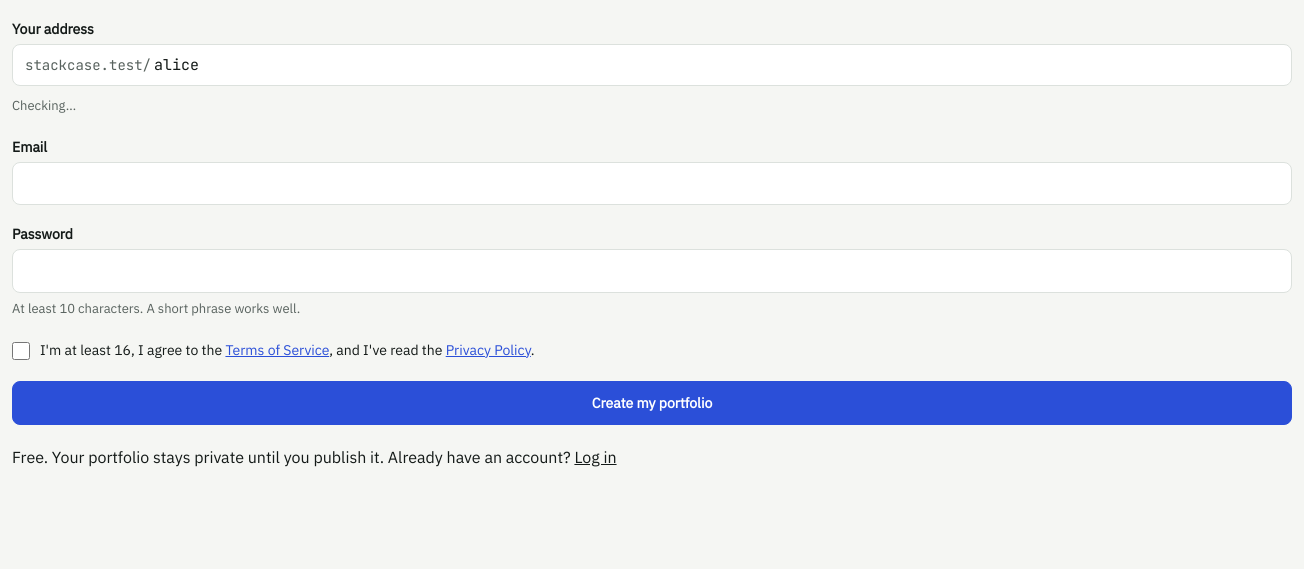
Test: auth forms › sign-up links the consent error to the checkbox and keeps it ticked
This screenshot has width=1304, height=569.
Click the button "Create my portfolio": (652, 403) [12,381,1292,425]
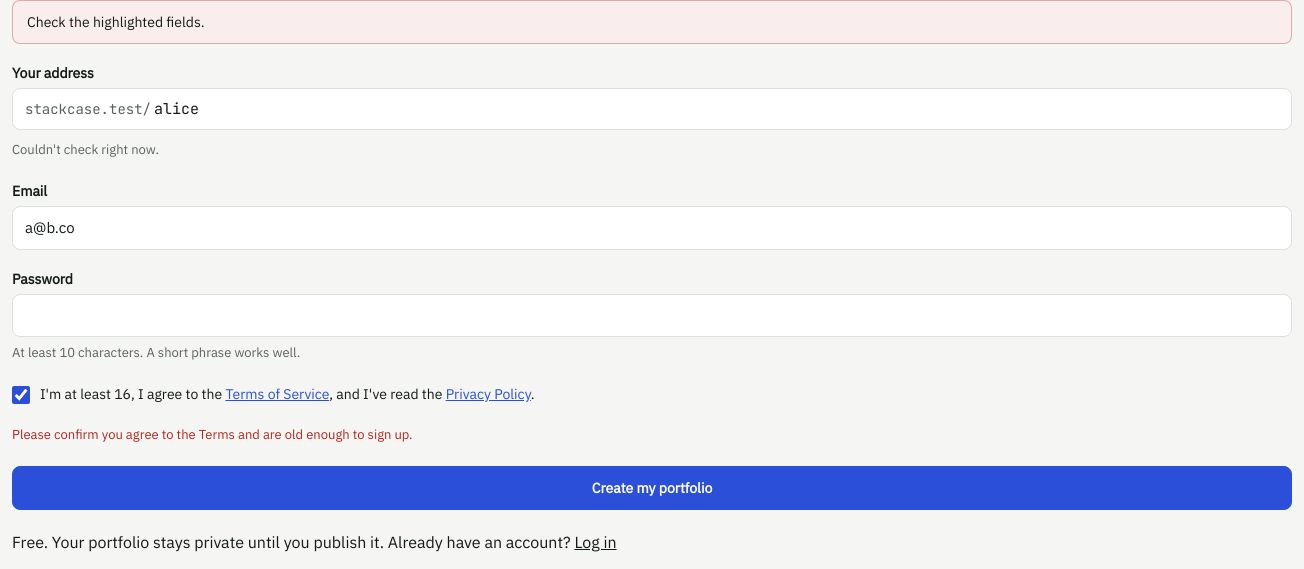
Now the checkbox is checked, box [12,386,30,404]
